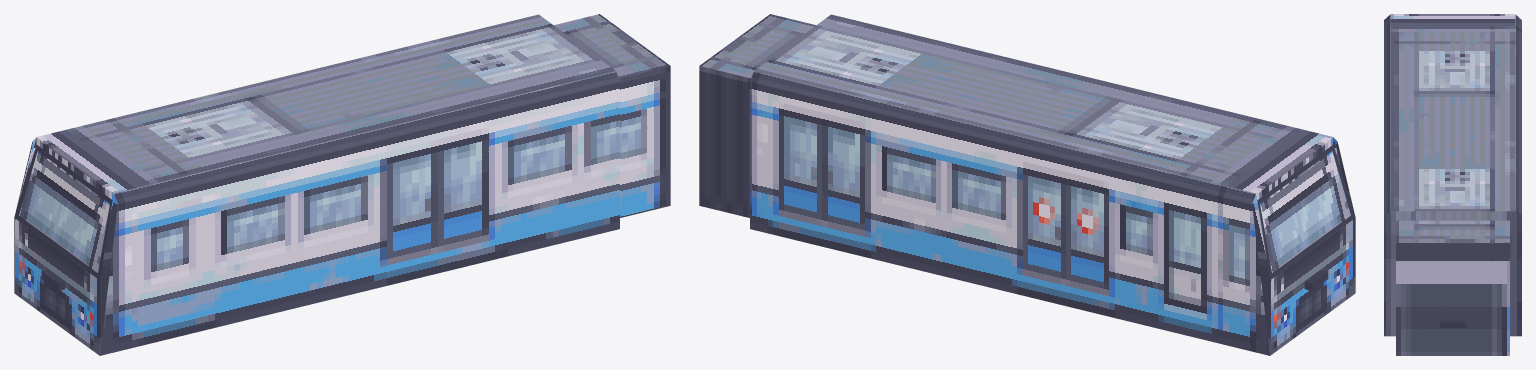
Rendered from blue-front-v3.glb.
The picture shows the model from 3 angles, left to right: view 1: azimuth 30°, elevation 25°; view 2: azimuth 150°, elevation 25°; view 3: azimuth 270°, elevation 25°; orthographic projection. The views are drawn at different scales.
Parts seen in each view (by area): view 1: Skirt-west, Roof, Bellows-body-2, Negative-end-lower, Roof-shoulder-west, Negative-end-windscreen-glass, Bellows-body-0, Negative-end-windscreen-frame, Negative-end-corner--1, Negative-end-roof; view 2: Skirt-east, Roof, Bellows-body-3, Negative-end-lower, Roof-shoulder-east, Negative-end-windscreen-glass, Bellows-body-0, Negative-end-windscreen-frame, Negative-end-corner-1, Negative-end-roof; view 3: Roof, Bellows-body-5, Bellows-body-0, Positive-end-upper, Positive-end-lower, Roof-shoulder-east, Roof-shoulder-west, Coupler-head-positive, Positive-end-corner-1, Positive-end-corner--1.
Part boxes in pixels (x1=…): Skirt-west: x1=100, y1=81, x2=619, y2=355; Roof: x1=37, y1=14, x2=615, y2=193; Bellows-body-2: x1=619, y1=66, x2=670, y2=217; Negative-end-lower: x1=14, y1=218, x2=99, y2=355; Roof-shoulder-west: x1=114, y1=71, x2=619, y2=203; Negative-end-windscreen-glass: x1=19, y1=151, x2=109, y2=272; Bellows-body-0: x1=554, y1=14, x2=670, y2=78; Negative-end-windscreen-frame: x1=14, y1=144, x2=112, y2=279; Negative-end-corner--1: x1=100, y1=194, x2=117, y2=352; Negative-end-roof: x1=36, y1=137, x2=113, y2=199; Skirt-east: x1=750, y1=81, x2=1269, y2=355; Roof: x1=754, y1=14, x2=1332, y2=193; Bellows-body-3: x1=699, y1=66, x2=750, y2=217; Negative-end-lower: x1=1270, y1=218, x2=1355, y2=355; Roof-shoulder-east: x1=750, y1=71, x2=1255, y2=203; Negative-end-windscreen-glass: x1=1260, y1=151, x2=1350, y2=272; Bellows-body-0: x1=699, y1=14, x2=815, y2=78; Negative-end-windscreen-frame: x1=1257, y1=144, x2=1355, y2=279; Negative-end-corner-1: x1=1252, y1=194, x2=1269, y2=352; Negative-end-roof: x1=1256, y1=137, x2=1333, y2=199; Roof: x1=1390, y1=14, x2=1515, y2=211; Bellows-body-5: x1=1396, y1=243, x2=1509, y2=355; Bellows-body-0: x1=1396, y1=220, x2=1509, y2=243; Positive-end-upper: x1=1384, y1=211, x2=1521, y2=275; Positive-end-lower: x1=1384, y1=275, x2=1521, y2=336; Roof-shoulder-east: x1=1515, y1=14, x2=1521, y2=216; Roof-shoulder-west: x1=1384, y1=14, x2=1390, y2=216; Coupler-head-positive: x1=1439, y1=319, x2=1466, y2=328; Positive-end-corner-1: x1=1515, y1=212, x2=1521, y2=274; Positive-end-corner--1: x1=1384, y1=212, x2=1390, y2=274.
Bounding box in the file's own units: 164 × 44 × 41.
1 material, 1 textured.
